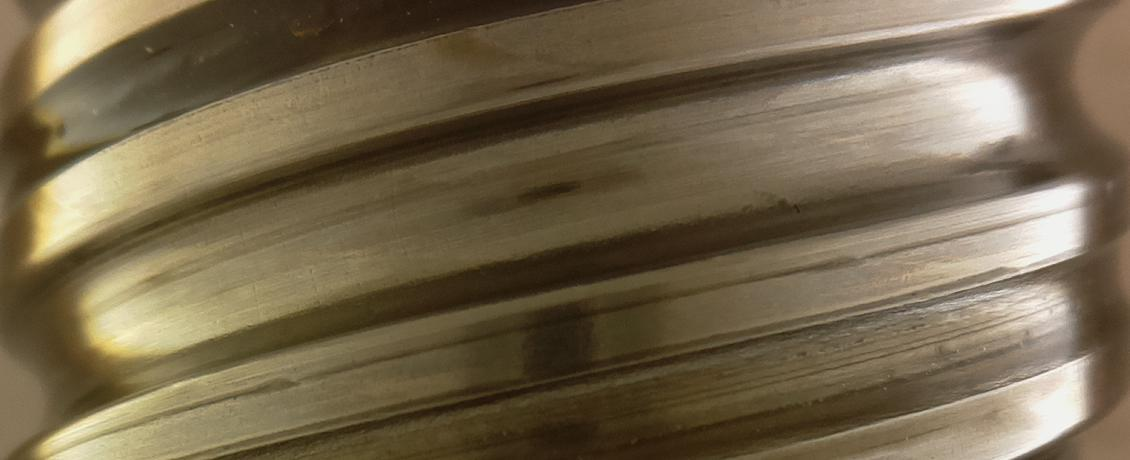pitting: (793, 204, 800, 213)
